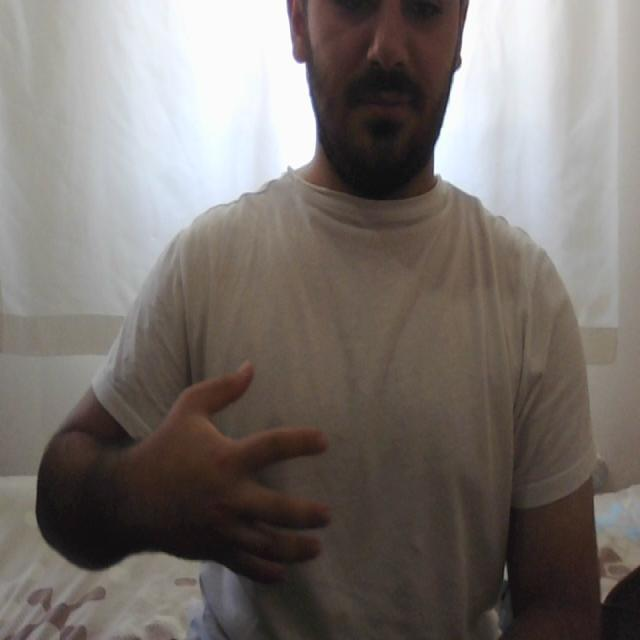Anne: (100, 347, 342, 598)
